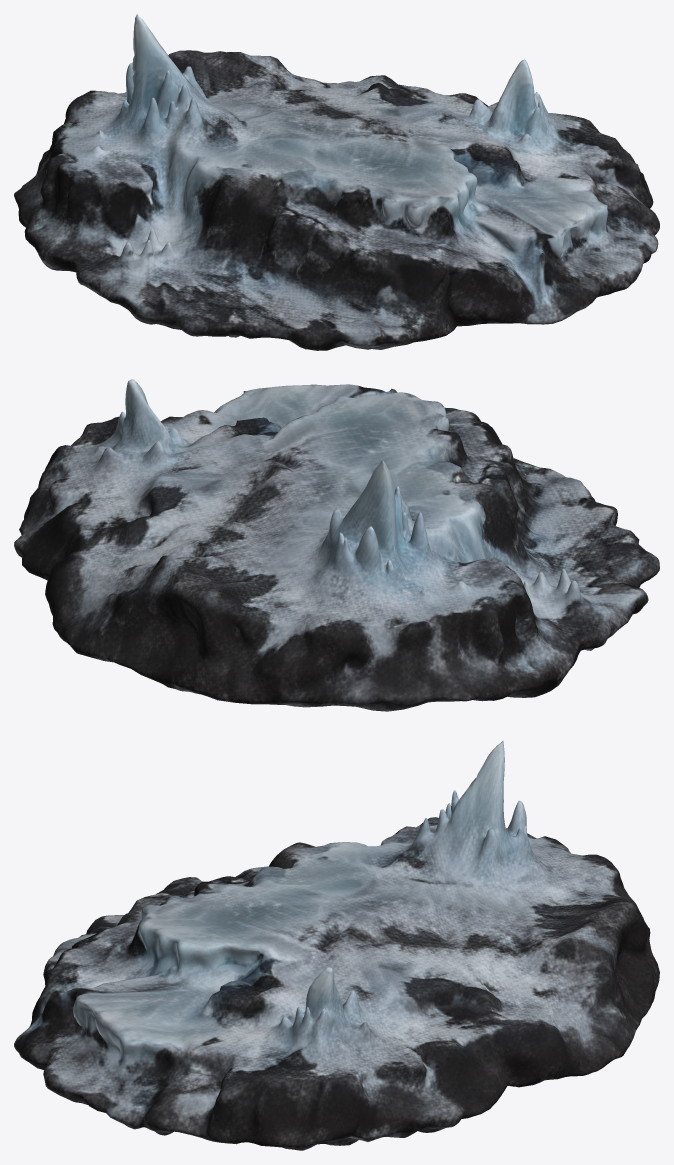
Rendered from MethaneIce_base_basic_pbr.glb.
The picture shows the model from 3 angles, top to bottom: view 1: azimuth 30°, elevation 25°; view 2: azimuth 150°, elevation 25°; view 3: azimuth 270°, elevation 25°; orthographic projection. The views are drawn at different scales.
Parts seen in each view (by area): view 1: model; view 2: model; view 3: model.
Boxes of the visible parts, x1,y1,x2,y2 form: model: (14, 14, 659, 350); model: (14, 379, 659, 711); model: (14, 740, 659, 1150).
Bounding box in the file's own units: 1.89 × 0.789 × 1.88.
Materials: 1 (1 with a texture image).
